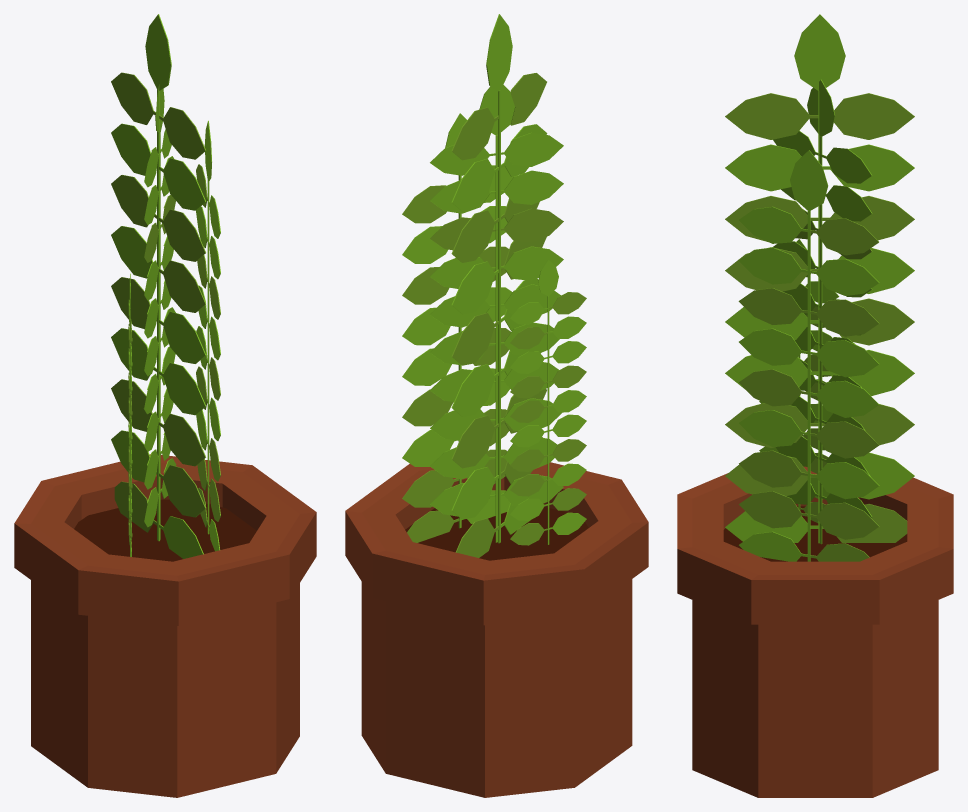
The model's file is Plant1.fbx.
The picture shows the model from 3 angles, left to right: view 1: azimuth 30°, elevation 25°; view 2: azimuth 150°, elevation 25°; view 3: azimuth 270°, elevation 25°; orthographic projection.
Parts seen in each view (by area): view 1: Pot, Plane, Cylinder, Plane.001, Plane.002; view 2: Pot, Plane, Plane.001, Plane.002, Cylinder; view 3: Pot, Plane, Plane.002, Plane.001, Cylinder.
Boxes of the visible parts, box(x1,y1,x2,y2) form: Pot: box(14, 454, 316, 797); Plane: box(111, 72, 220, 558); Cylinder: box(74, 499, 256, 561); Plane.001: box(130, 89, 209, 556); Plane.002: box(129, 14, 211, 310); Pot: box(345, 462, 648, 797); Plane: box(402, 73, 586, 557); Plane.001: box(458, 90, 549, 544); Plane.002: box(445, 14, 558, 296); Cylinder: box(405, 507, 588, 560); Pot: box(677, 466, 953, 797); Plane: box(725, 93, 914, 561); Plane.002: box(790, 14, 845, 249); Plane.001: box(798, 90, 822, 561); Cylinder: box(723, 506, 907, 561).
Size of the model in its own units: 224 by 654 by 224.
